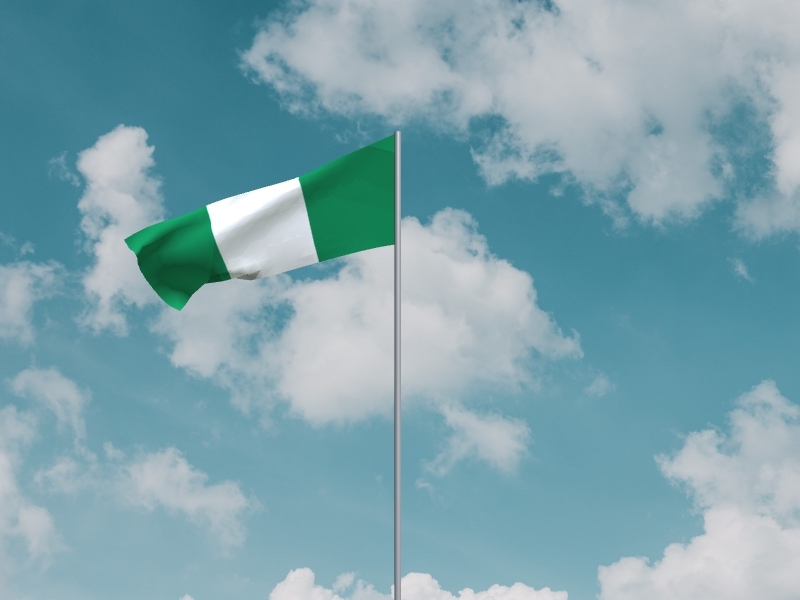ng: (124, 136, 395, 313)
